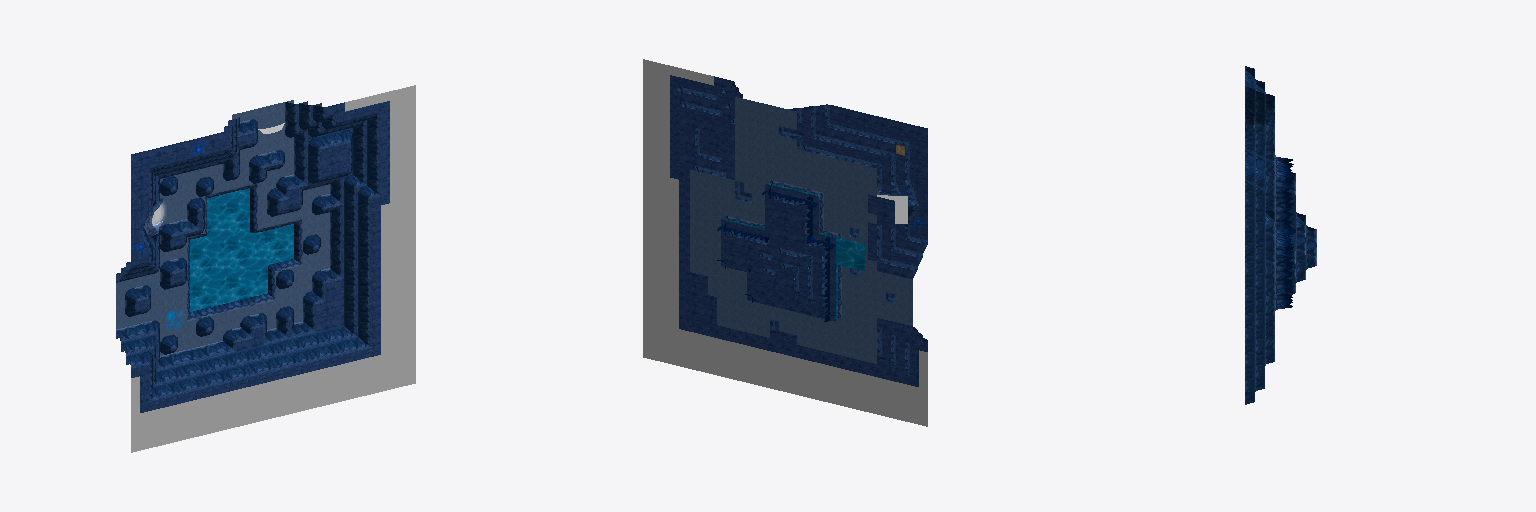
The picture shows the model from 3 angles: view 1: azimuth 30°, elevation 25°; view 2: azimuth 150°, elevation 25°; view 3: azimuth 270°, elevation 25°; orthographic projection.
Parts seen in each view (by area): view 1: map; view 2: map; view 3: map.
Part boxes in pixels (bbox=[...]): map: bbox=[116, 85, 415, 452]; map: bbox=[643, 59, 927, 426]; map: bbox=[1245, 66, 1316, 404].
Bounding box in the file's own units: 32 × 32 × 7.12.
15 materials, 13 textured.